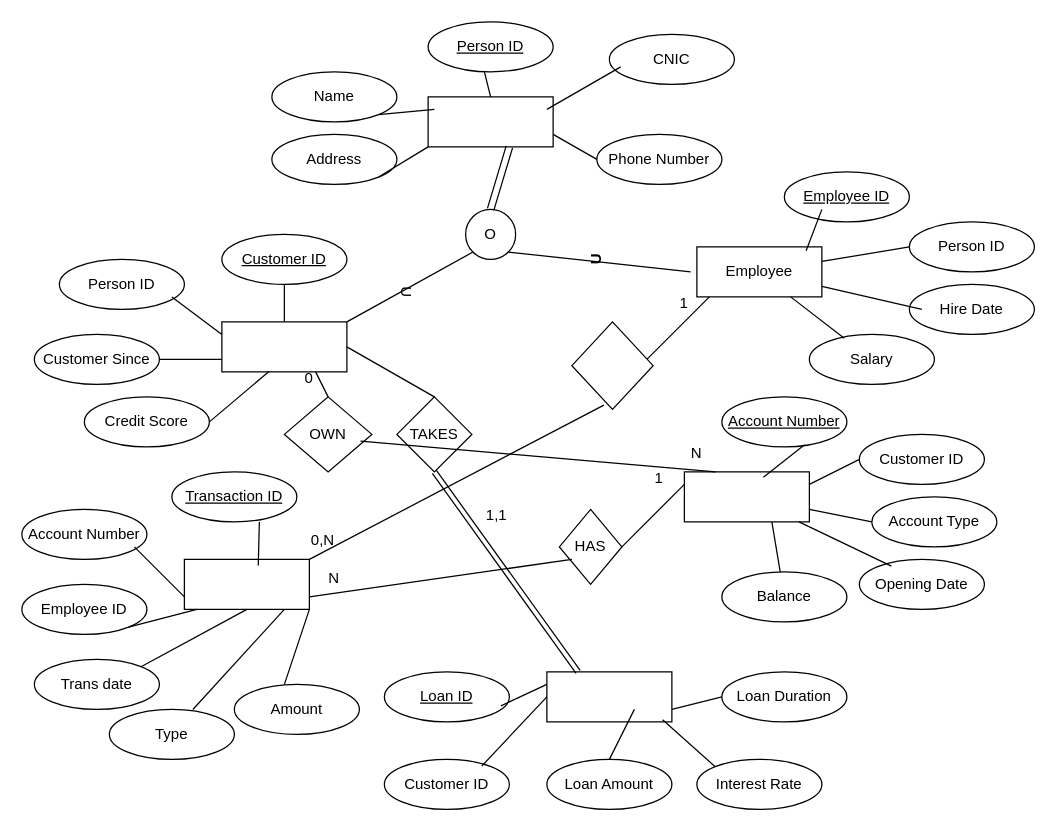
This 1056x831 diagram has some shape labels left out. Here are the shapes that lost their labels. From the top down, the box of each, then its label:
(427, 96, 553, 147): Person
(221, 321, 347, 372): Customer
(571, 321, 653, 409): Approves
(683, 471, 809, 522): Account
(183, 558, 309, 609): Transaction
(546, 671, 672, 722): Loan Account
